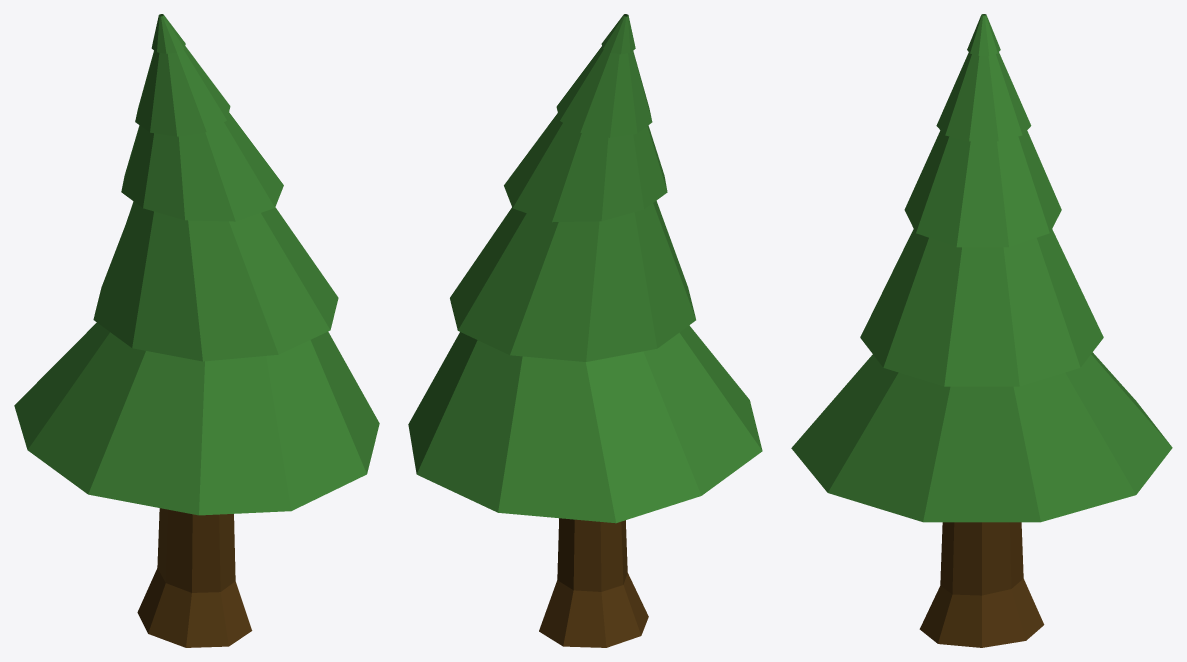
Rendered from FUSE TREE #2.fbx.
3 renders of one model, left to right at view 1: azimuth 30°, elevation 25°; view 2: azimuth 150°, elevation 25°; view 3: azimuth 270°, elevation 25°, orthographic. The views are drawn at different scales.
Visible parts, largest first — view 1: Pine Tree Leaves, Pine Tree Trunk; view 2: Pine Tree Leaves, Pine Tree Trunk; view 3: Pine Tree Leaves, Pine Tree Trunk.
Part boxes in pixels (x1,y1,x2,y2): Pine Tree Leaves: [14, 14, 379, 515]; Pine Tree Trunk: [137, 508, 252, 647]; Pine Tree Leaves: [408, 14, 762, 523]; Pine Tree Trunk: [539, 518, 648, 647]; Pine Tree Leaves: [791, 14, 1172, 522]; Pine Tree Trunk: [919, 522, 1044, 647].
Size of the model in its own units: 243 by 490 by 283.
